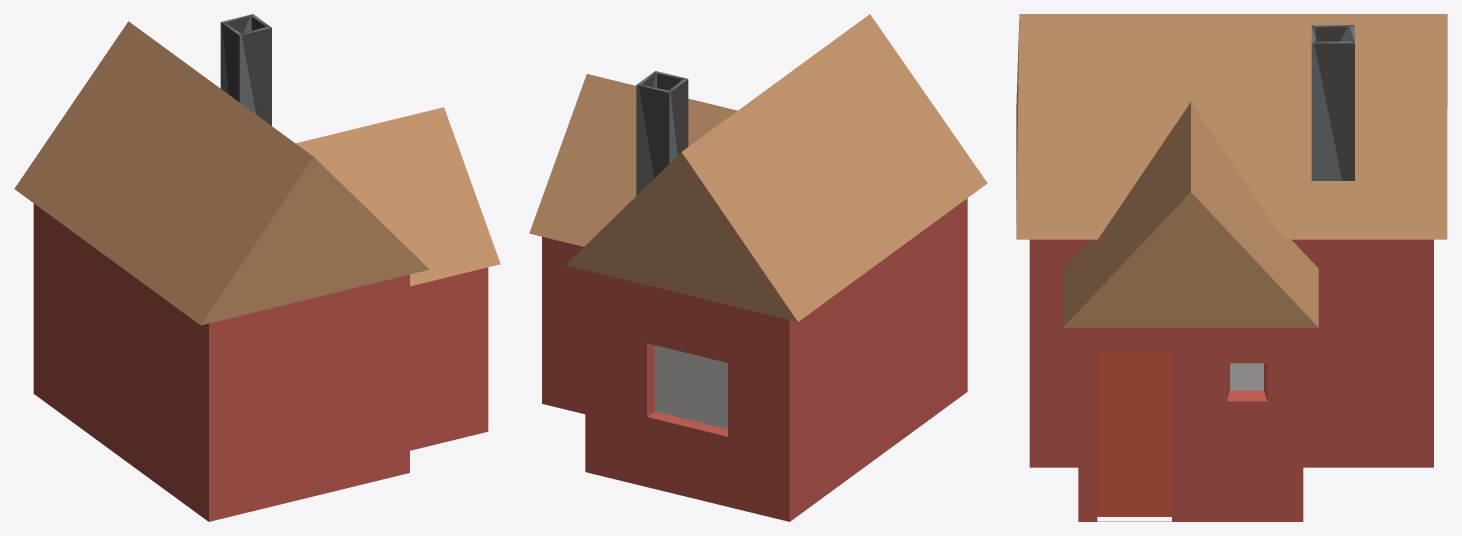
The model's file is Casa2.fbx.
3 renders of one model, left to right at view 1: azimuth 30°, elevation 25°; view 2: azimuth 150°, elevation 25°; view 3: azimuth 270°, elevation 25°, orthographic. The views are drawn at different scales.
Parts seen in each view (by area): view 1: CasasMediavais.002; view 2: CasasMediavais.002; view 3: CasasMediavais.002.
Part boxes in pixels (x1,y1,x2,y2): CasasMediavais.002: (14, 14, 500, 521); CasasMediavais.002: (529, 14, 987, 521); CasasMediavais.002: (1016, 14, 1447, 521).
Bounding box in the file's own units: 2402 × 2579 × 2427.
